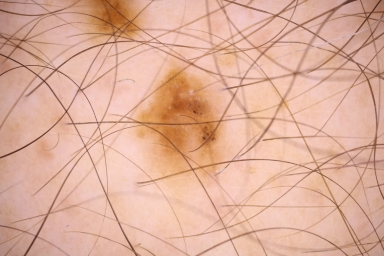nevus: (150, 73, 218, 173)
